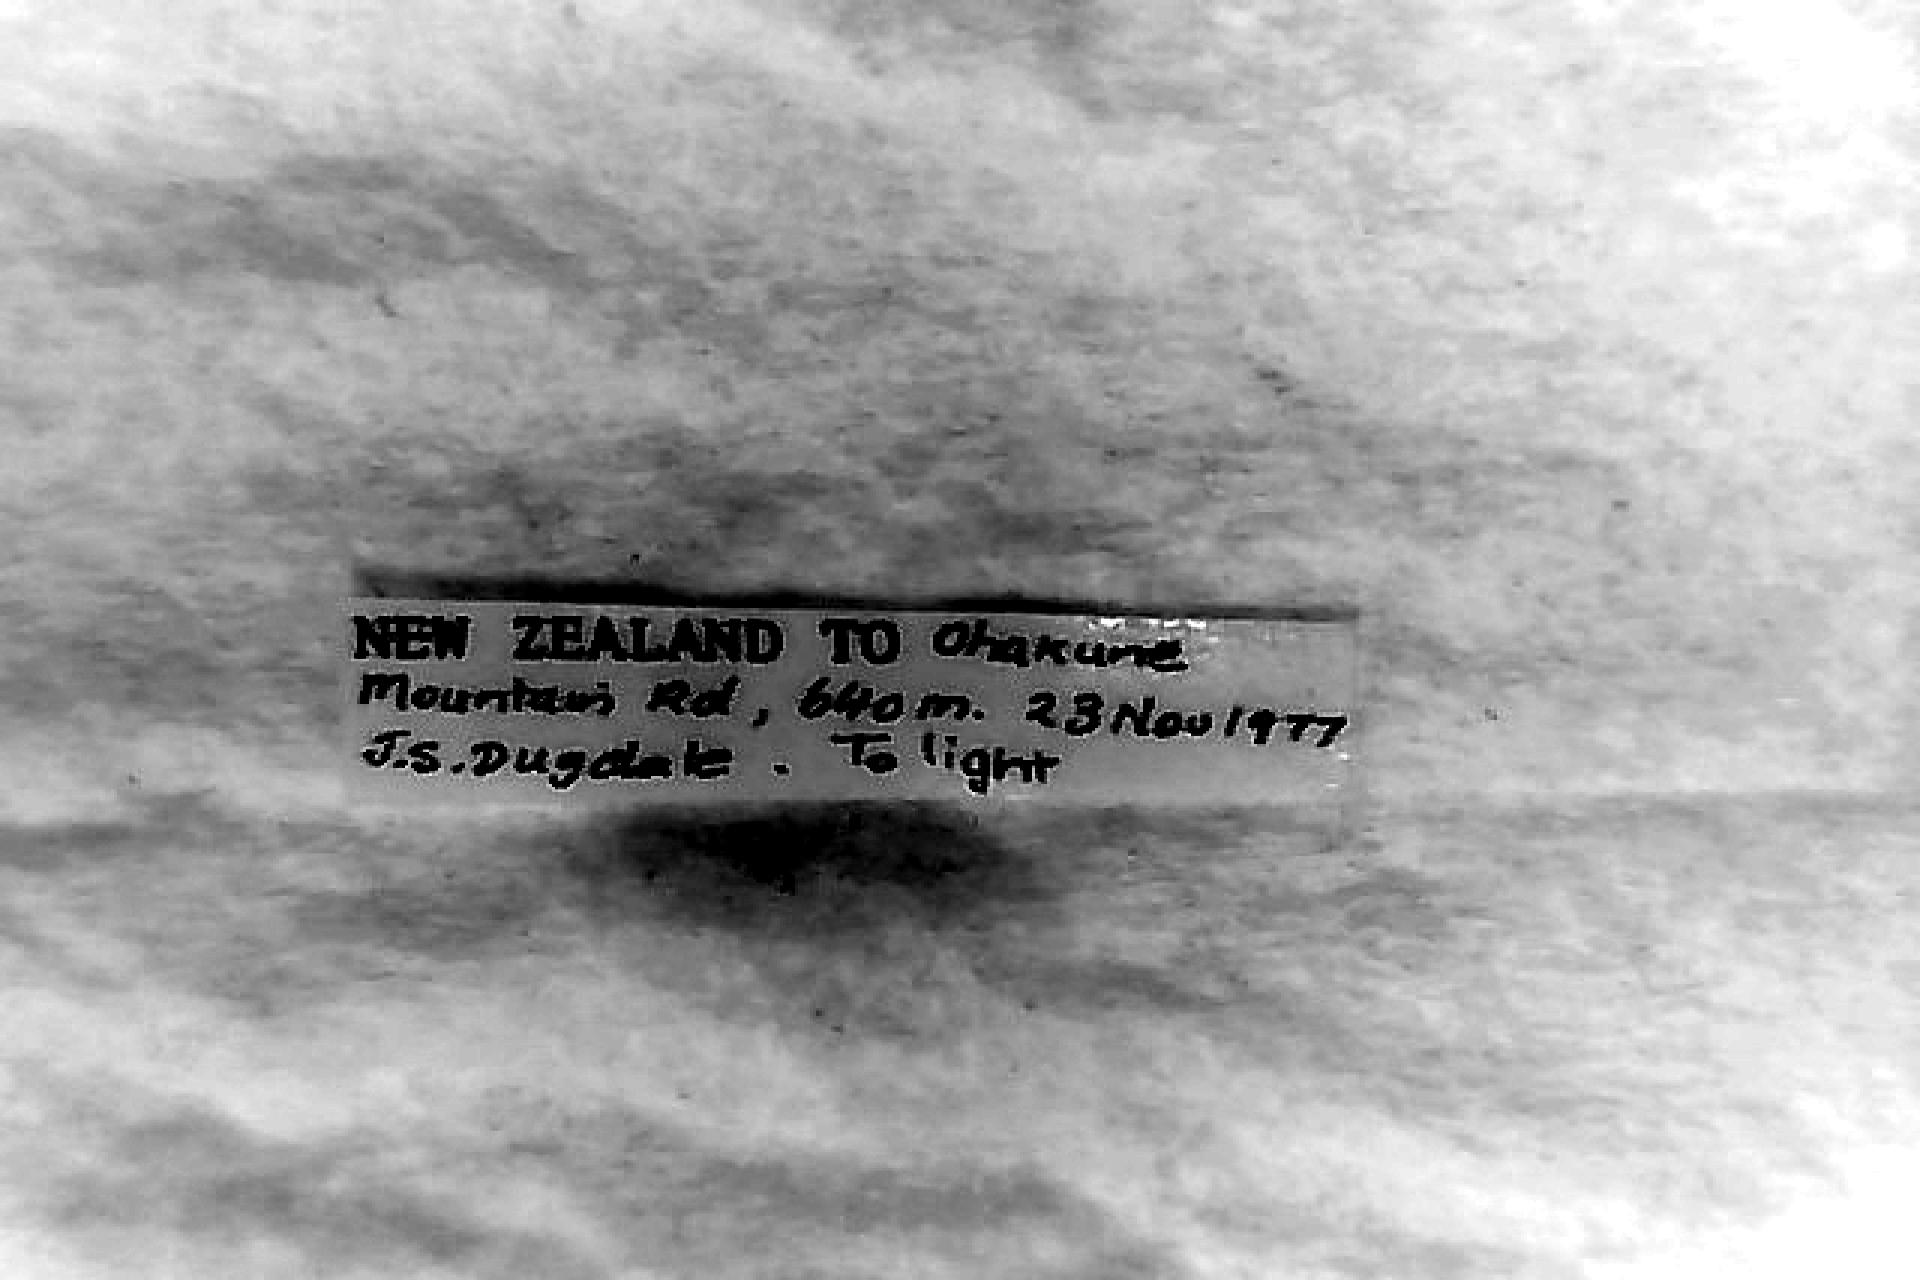mixed_label: (349, 597, 1358, 802)
